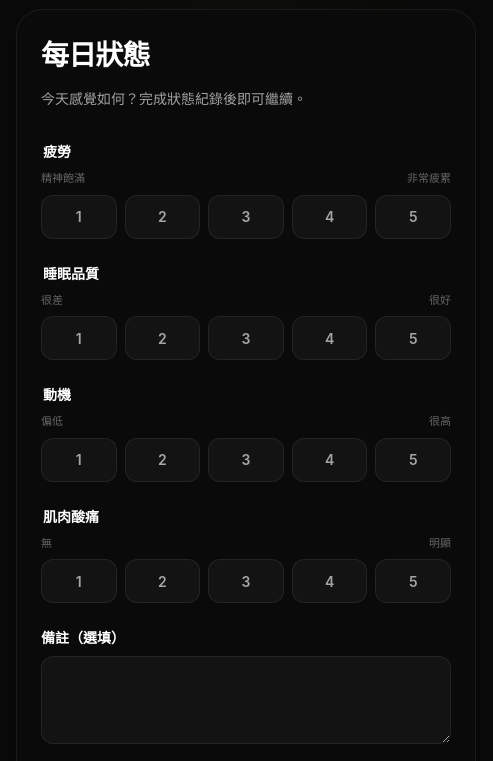
it: daily check-in integration › gates the dashboard until today check-in is completed
expect the heading "每日狀態" is shown: met, box x1=41 y1=38 x2=150 y2=72
expect the button "開始訓練" is not shown: met
Click the button named "疲勞 3" at (246, 216), box x1=208 y1=194 x2=284 y2=238
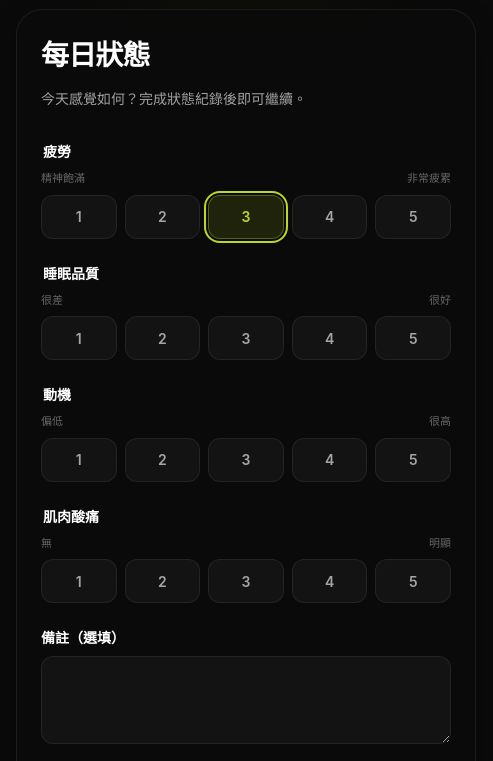
Click the button named "睡眠品質 4" at (330, 338), box x1=292 y1=316 x2=367 y2=360
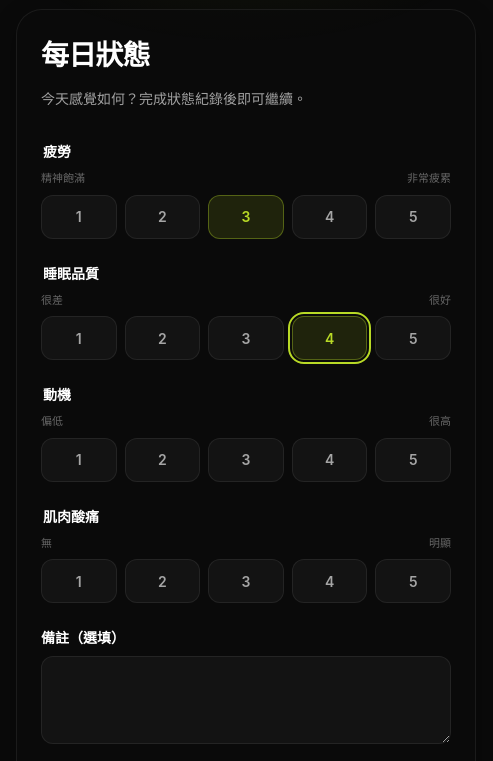
Click the button named "動機 4" at (330, 460), box x1=292 y1=438 x2=367 y2=482
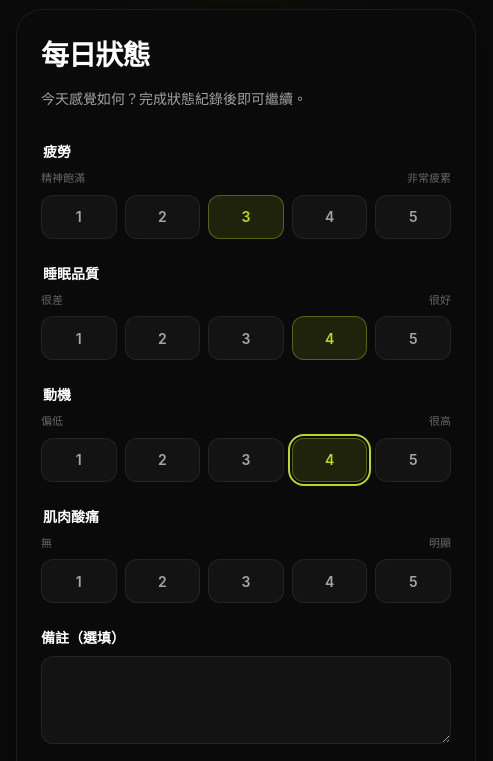
Click the button named "肌肉酸痛 2" at (162, 581), box x1=125 y1=559 x2=200 y2=603
(page scrolled)
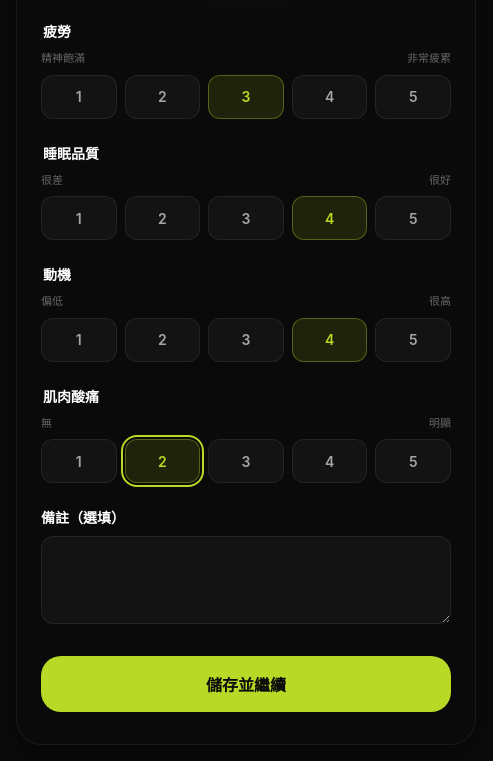
Click the button "儲存並繼續" at (246, 684), box x1=41 y1=656 x2=451 y2=712
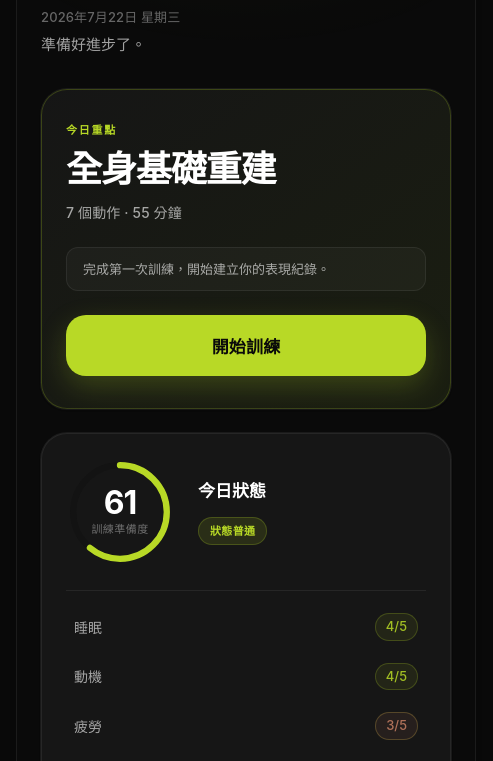
expect the button "開始訓練" is shown: met, box x1=66 y1=316 x2=426 y2=376
